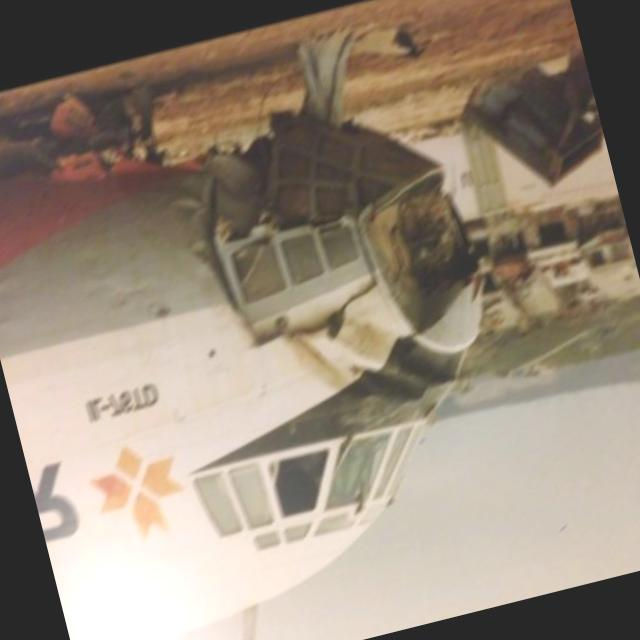dent: (168, 193, 218, 267)
